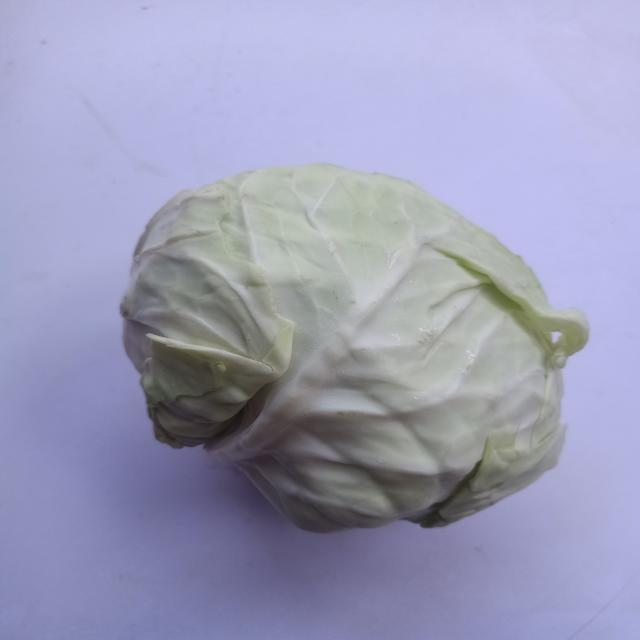Cabbage: (88, 141, 640, 554)
